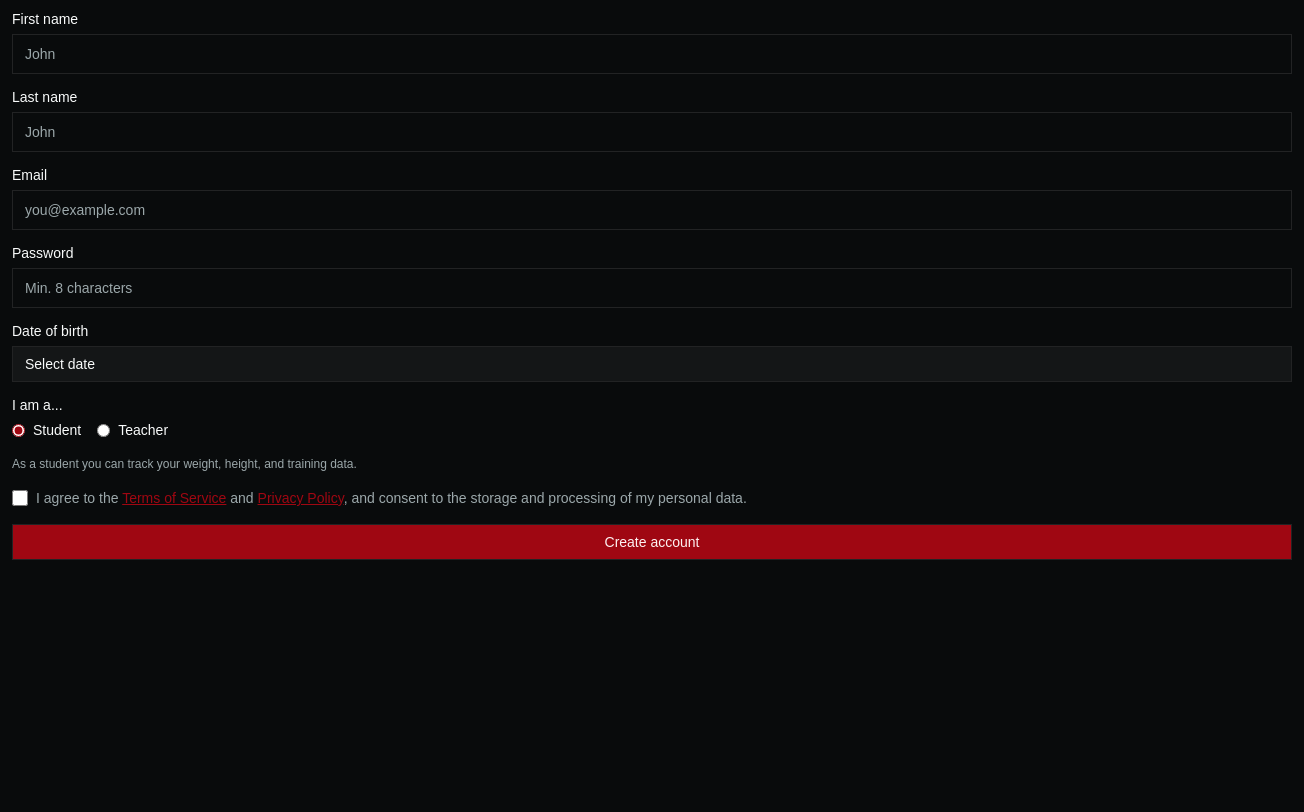
RegisterForm — profile_type selector › hides teacher description when student is re-selected
Click the radio button labelled "Teacher" at (104, 430), box [97, 424, 110, 436]
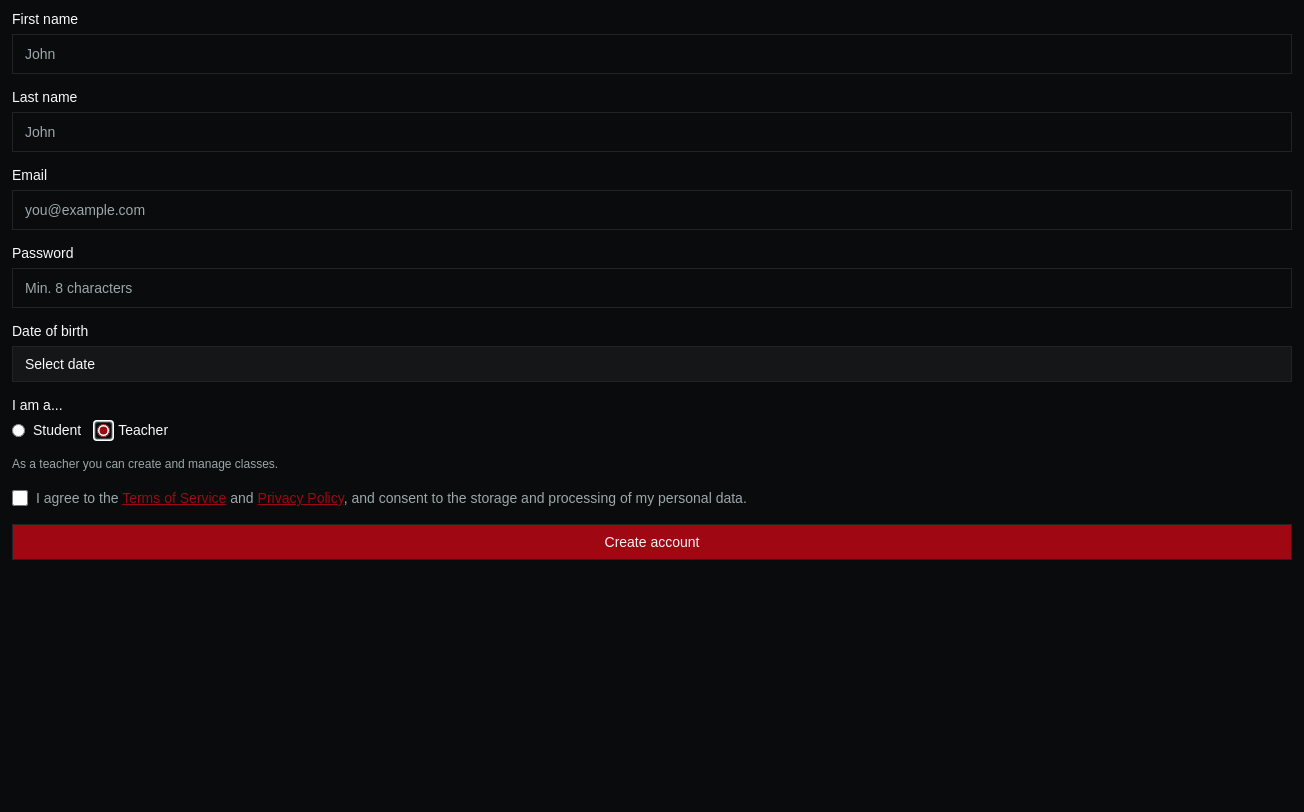
Click the radio button labelled "Student" at (18, 430), box [12, 424, 25, 436]
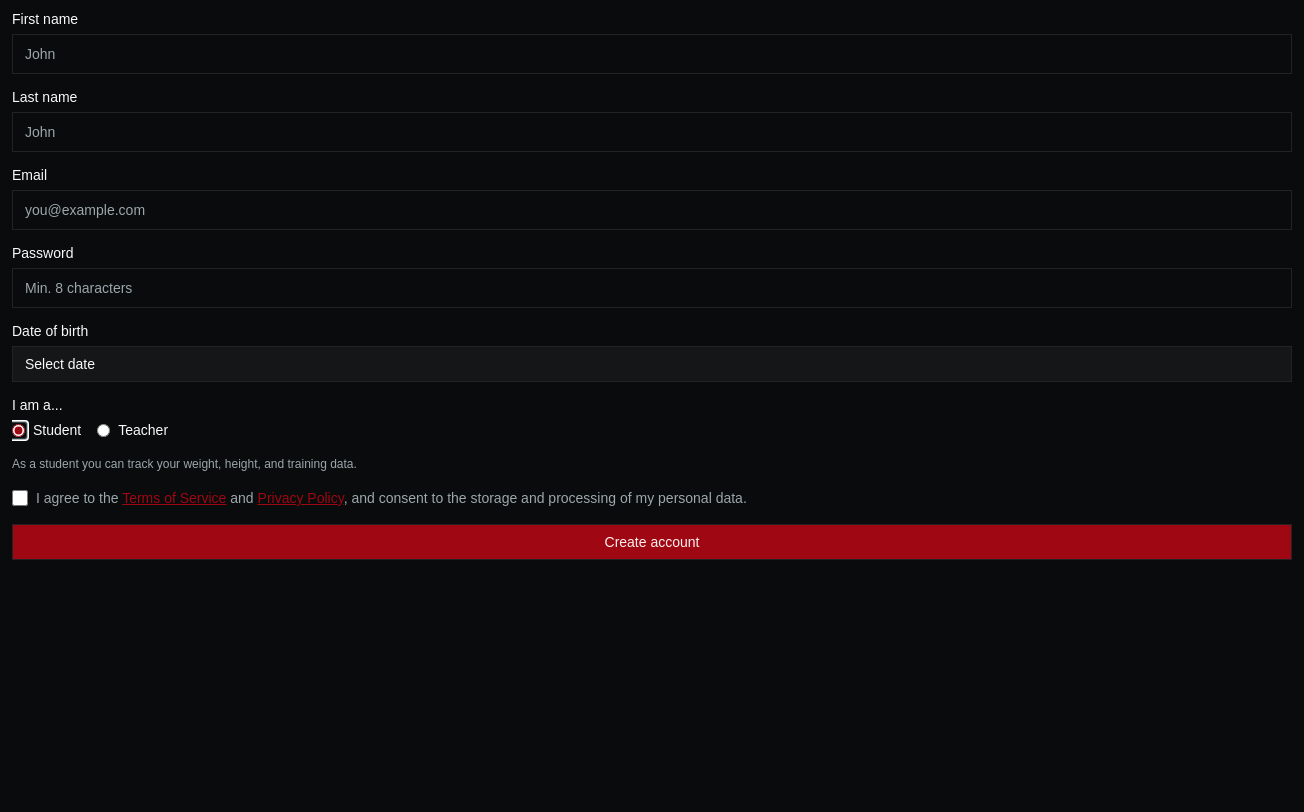
Expected: the text "create and manage classes" is gone
